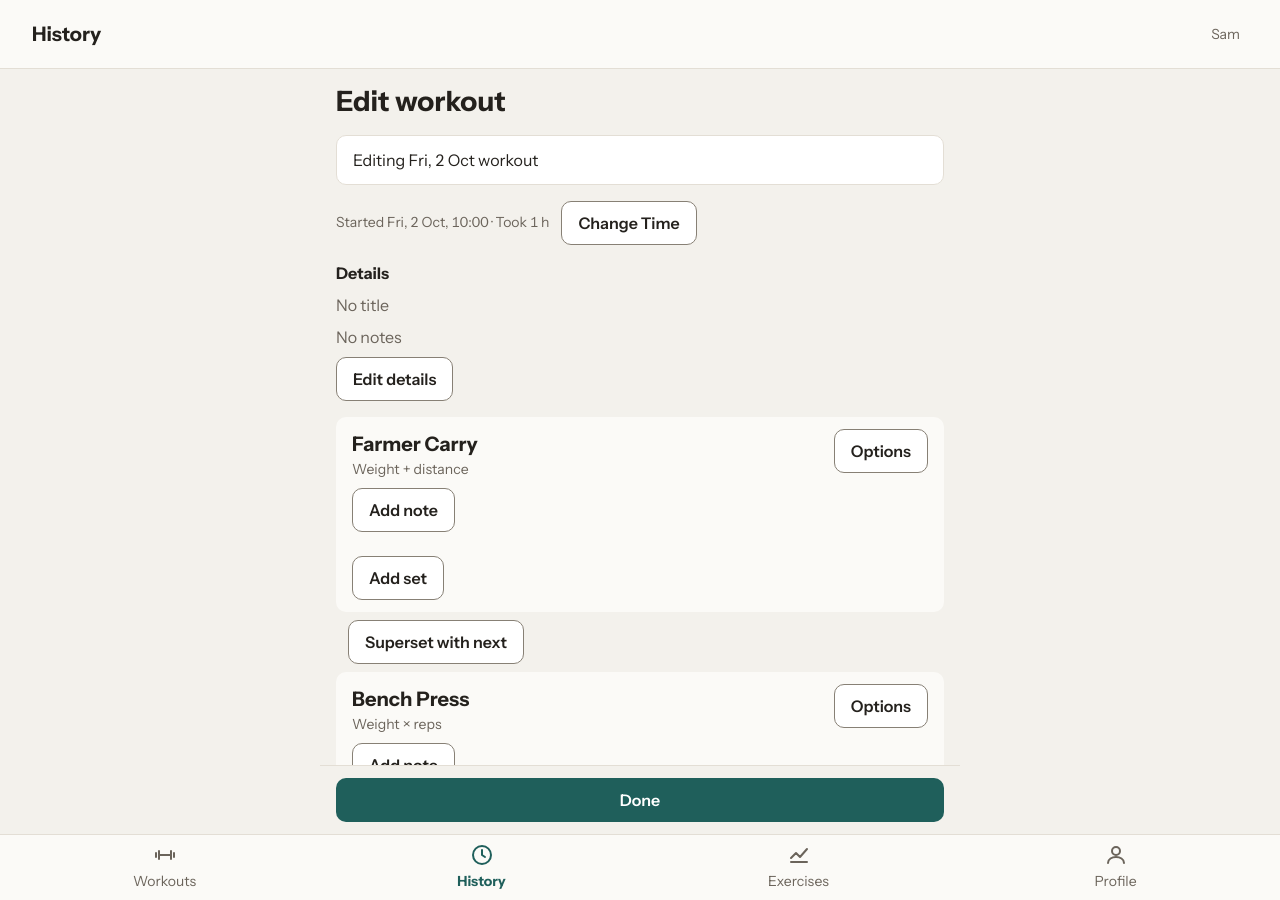
Test: 18.1 AC20 — the edit screen's set sheet › Add set on a carry with no sets seeds meters, even on a lb profile
This screenshot has width=1280, height=900.
Click the button with aria-label "Add set to " at (398, 578), box [352,556,444,600]
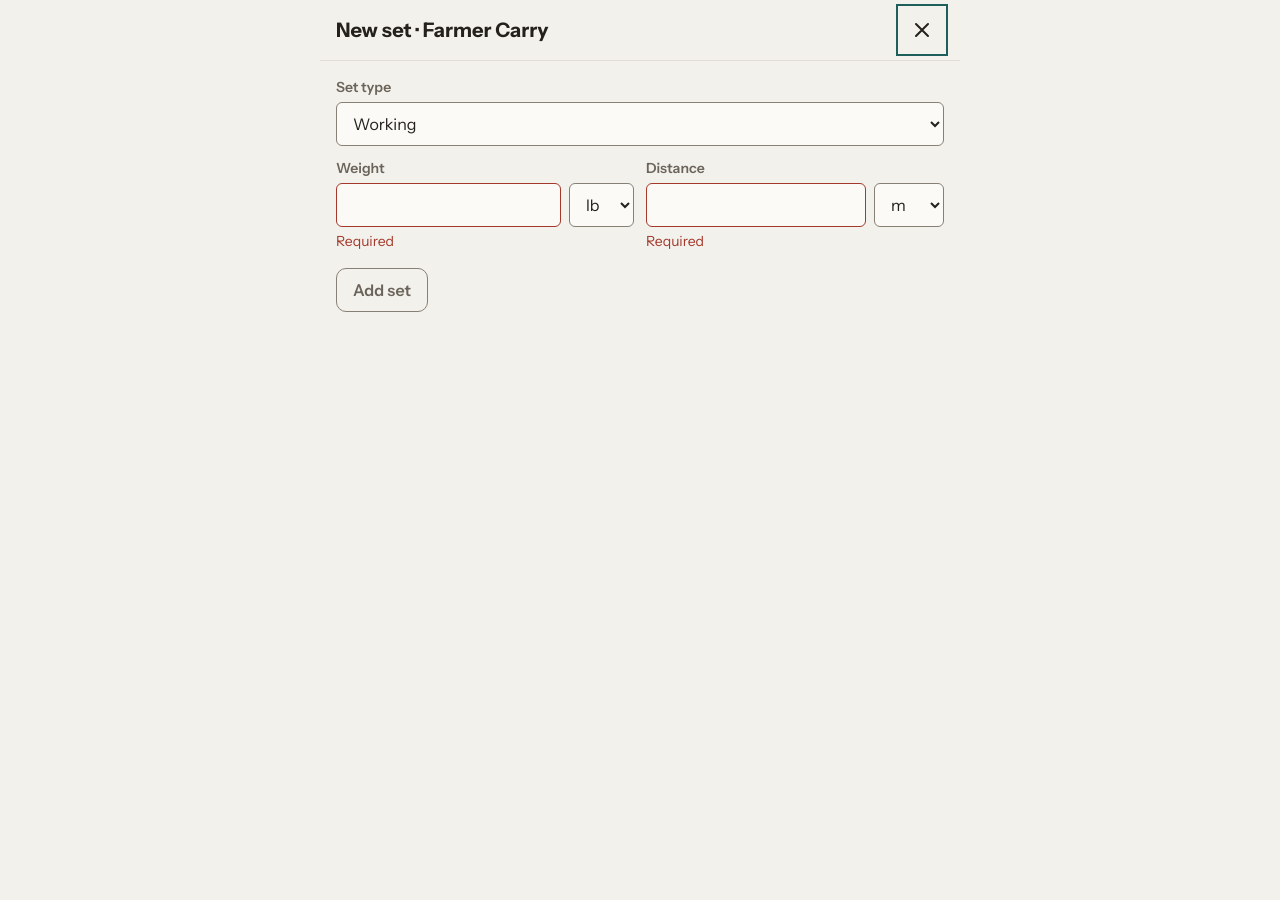
Check: the dropdown named "Distance unit" shows "m", box [874,183,944,227]
Check: the dropdown named "Weight unit" shows "lb", box [569,183,634,227]
